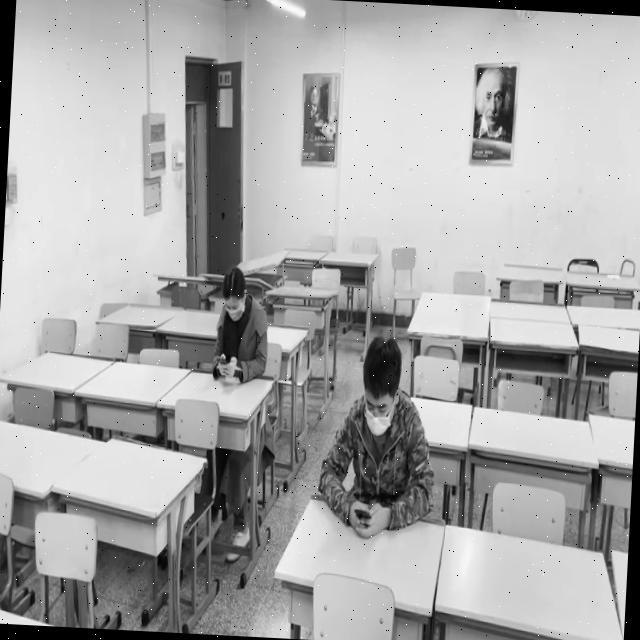phone: (316, 339, 438, 534), (215, 271, 270, 374)
